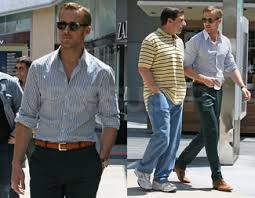F_belt: (29, 134, 102, 155)
